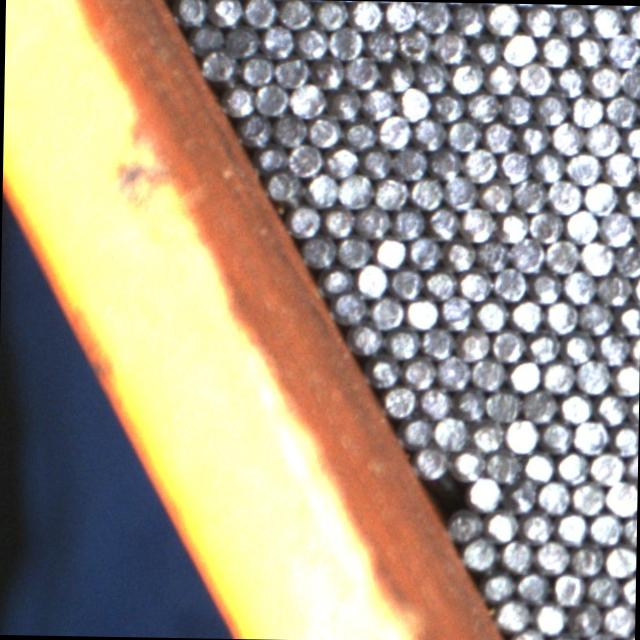tool: (490, 326, 526, 362), (566, 600, 602, 636), (507, 356, 542, 392), (260, 22, 295, 58), (589, 448, 624, 484), (546, 176, 581, 212), (462, 535, 498, 570), (464, 475, 500, 510), (328, 24, 364, 59), (585, 120, 620, 156), (361, 84, 396, 120), (503, 416, 538, 452), (599, 210, 634, 246), (372, 174, 408, 209), (470, 354, 505, 390), (531, 598, 566, 634), (544, 236, 579, 271), (407, 234, 442, 269), (353, 261, 388, 296), (433, 414, 468, 449), (566, 149, 601, 184), (558, 389, 593, 424), (463, 146, 498, 181), (486, 446, 521, 481), (473, 296, 508, 331), (534, 538, 570, 572), (582, 180, 618, 214), (356, 202, 390, 238), (383, 382, 417, 418), (305, 170, 339, 206), (604, 478, 638, 514), (550, 570, 586, 604), (580, 238, 614, 274), (436, 352, 470, 388), (415, 56, 449, 92), (509, 296, 543, 332), (312, 54, 346, 90), (602, 600, 636, 636), (570, 540, 604, 576), (452, 386, 488, 420), (570, 478, 604, 514), (202, 47, 238, 81), (502, 30, 536, 66), (419, 324, 455, 358), (528, 268, 562, 304), (274, 52, 308, 88), (475, 234, 509, 270), (446, 506, 482, 540), (554, 509, 588, 544), (401, 354, 436, 388), (542, 358, 576, 393), (432, 28, 467, 62), (484, 507, 518, 542), (499, 538, 534, 572), (409, 174, 444, 208), (564, 208, 599, 242), (456, 326, 491, 360), (392, 144, 427, 178), (290, 81, 324, 116), (345, 53, 379, 88), (444, 174, 479, 208), (578, 299, 612, 334), (492, 265, 526, 300), (537, 478, 571, 513), (392, 204, 426, 239), (359, 144, 394, 178), (460, 206, 495, 240), (576, 358, 610, 393), (504, 477, 538, 512), (555, 449, 589, 484), (486, 386, 520, 421), (295, 23, 329, 58), (386, 324, 420, 359), (596, 330, 630, 365), (514, 569, 549, 603), (426, 204, 460, 239), (414, 442, 448, 477), (254, 80, 289, 114), (530, 148, 565, 182), (439, 294, 474, 328), (422, 265, 457, 299), (469, 418, 504, 452), (446, 116, 481, 150), (372, 234, 407, 268), (306, 112, 341, 146), (595, 389, 629, 424), (468, 32, 503, 66), (376, 114, 411, 148), (348, 320, 383, 354), (428, 146, 463, 180), (528, 208, 563, 242), (586, 570, 620, 604), (588, 510, 622, 544), (479, 177, 513, 211), (364, 26, 398, 60), (519, 60, 553, 94), (538, 32, 572, 66), (389, 264, 423, 298), (396, 85, 430, 119), (484, 59, 518, 93), (539, 418, 573, 452), (418, 384, 452, 418), (336, 233, 370, 267), (338, 172, 372, 206), (543, 298, 577, 332), (561, 330, 595, 364), (466, 89, 500, 123), (499, 90, 533, 124), (240, 51, 274, 85), (224, 22, 258, 56), (534, 90, 568, 124), (496, 148, 530, 182), (572, 32, 606, 66), (588, 61, 622, 95), (398, 26, 432, 60), (510, 236, 544, 270), (449, 58, 483, 92), (404, 294, 438, 328), (398, 412, 432, 446), (526, 329, 560, 363), (522, 388, 556, 422), (458, 266, 492, 300), (323, 144, 357, 178), (519, 510, 553, 544), (442, 236, 476, 270), (496, 209, 530, 243), (562, 268, 596, 302), (572, 418, 606, 452), (302, 232, 336, 266), (288, 140, 322, 174), (549, 120, 583, 154), (368, 294, 402, 328), (605, 32, 639, 66), (380, 58, 414, 92), (495, 596, 529, 630), (602, 150, 636, 184), (596, 271, 630, 305), (412, 116, 446, 150), (328, 86, 362, 120), (238, 112, 272, 146), (480, 568, 514, 602), (266, 169, 301, 202), (450, 2, 485, 35), (342, 116, 377, 149), (554, 62, 587, 97), (222, 82, 255, 117), (513, 178, 546, 212), (569, 92, 603, 125), (322, 203, 355, 237), (430, 88, 464, 121), (604, 92, 638, 125), (555, 4, 589, 37), (515, 120, 549, 153), (450, 446, 484, 479), (521, 448, 554, 482), (485, 2, 520, 34), (368, 352, 400, 387), (190, 19, 223, 52), (481, 119, 514, 152), (288, 202, 320, 236), (522, 4, 556, 36), (590, 4, 624, 36), (604, 542, 636, 576), (272, 112, 306, 144), (333, 290, 366, 322), (255, 140, 288, 172), (416, 1, 450, 32), (320, 264, 352, 296), (313, 0, 347, 30), (348, 0, 382, 29), (277, 0, 312, 28), (383, 1, 416, 30), (612, 361, 640, 395), (610, 422, 638, 456), (243, 0, 277, 27), (614, 301, 640, 336), (209, 0, 243, 26), (614, 242, 640, 276), (175, 0, 207, 24), (618, 184, 640, 218), (620, 123, 640, 157), (620, 64, 640, 98), (620, 572, 636, 606), (624, 6, 640, 39), (511, 626, 545, 640), (548, 629, 583, 640), (584, 629, 618, 640)
